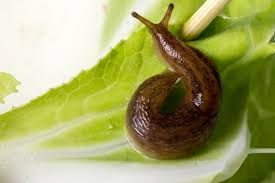slug: (128, 5, 213, 155)
